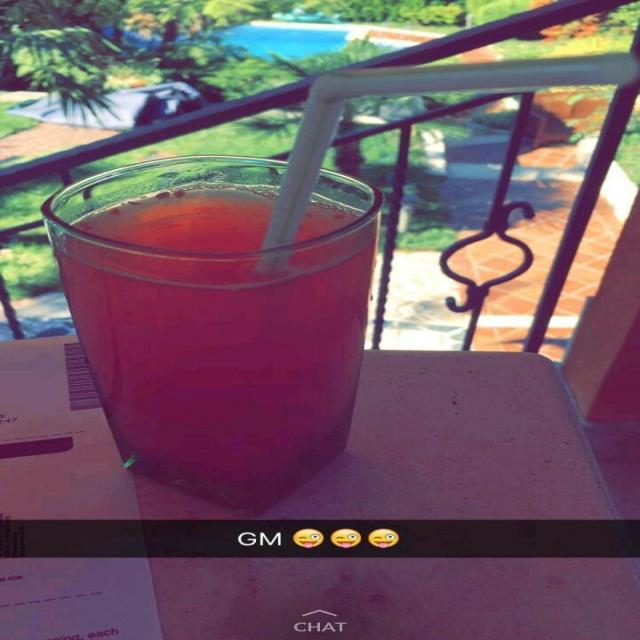glass-normal: (39, 153, 388, 514)
